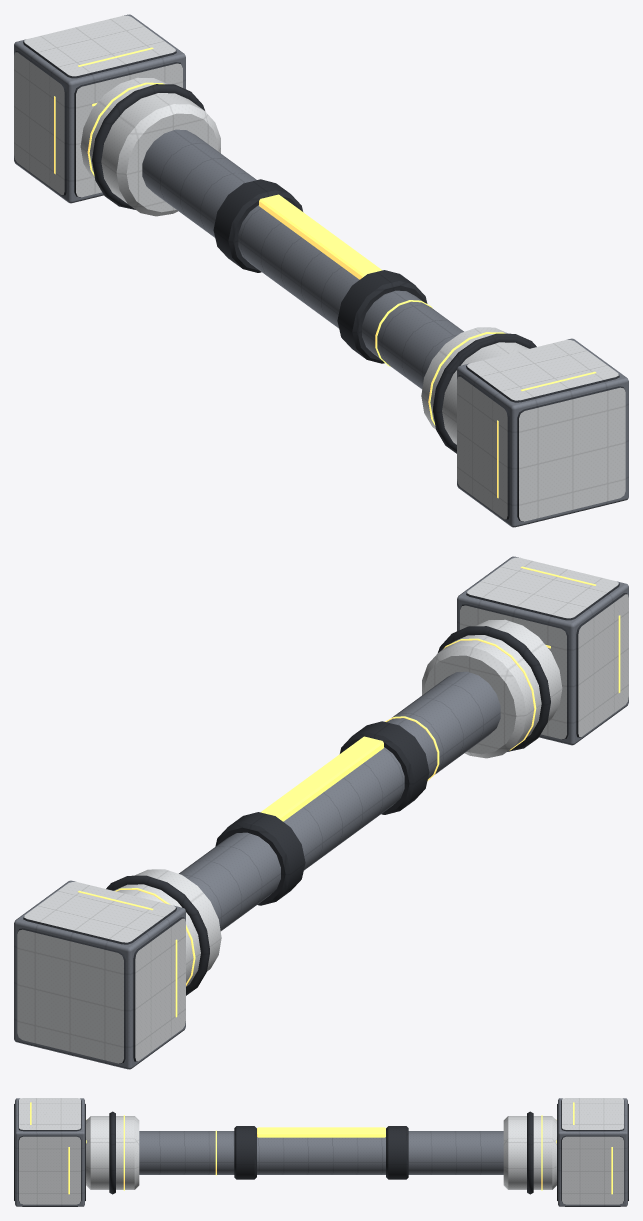
File: R4C_ROD_STANDARD.glb
The picture shows the model from 3 angles, top to bottom: view 1: azimuth 30°, elevation 25°; view 2: azimuth 150°, elevation 25°; view 3: azimuth 270°, elevation 25°; orthographic projection. The views are drawn at different scales.
Visible parts, largest first — view 1: R4C_ROD_STANDARD; view 2: R4C_ROD_STANDARD; view 3: R4C_ROD_STANDARD.
Part boxes in pixels (left/top/right/bottom): R4C_ROD_STANDARD: left=14, top=14, right=628, bottom=527; R4C_ROD_STANDARD: left=14, top=556, right=628, bottom=1069; R4C_ROD_STANDARD: left=14, top=1098, right=628, bottom=1206.
Bounding box in the file's own units: 0.2284 × 0.2264 × 1.62.
4 materials, 3 textured.
